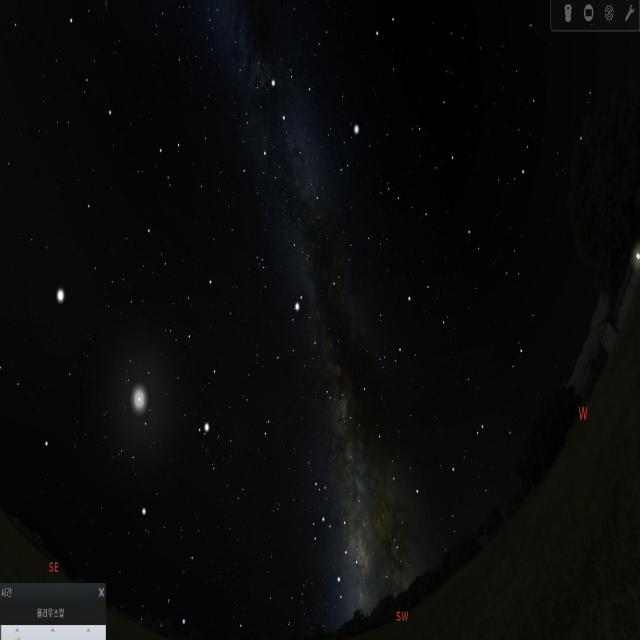aquila: (272, 288, 345, 407)
cygnus: (258, 72, 324, 217)
lyra: (332, 116, 362, 186)
moon: (124, 374, 154, 420)
sagittarius: (310, 501, 366, 608)
